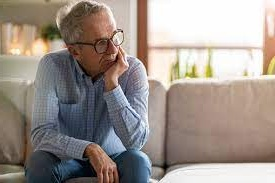not_fallen: (16, 4, 154, 182)
